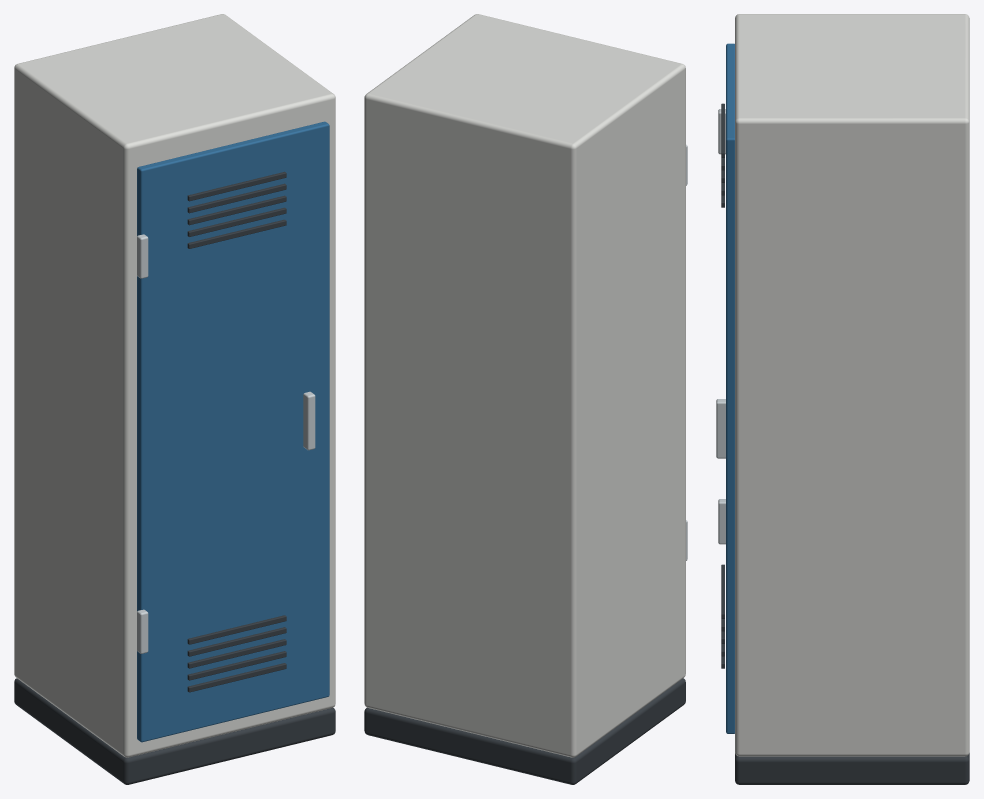
File: fencing-club-and-tournament-piste-changing-locker-31f24683__31245.glb
The picture shows the model from 3 angles, left to right: view 1: azimuth 30°, elevation 25°; view 2: azimuth 150°, elevation 25°; view 3: azimuth 270°, elevation 25°; orthographic projection. The views are drawn at different scales.
Parts seen in each view (by area): view 1: changing-locker; view 2: changing-locker; view 3: changing-locker.
Boxes of the visible parts, x1,y1,x2,y2 form: changing-locker: [14, 14, 335, 784]; changing-locker: [364, 14, 687, 784]; changing-locker: [716, 14, 969, 784].
Bounding box in the file's own units: 0.6501 × 1.88 × 0.6475.
